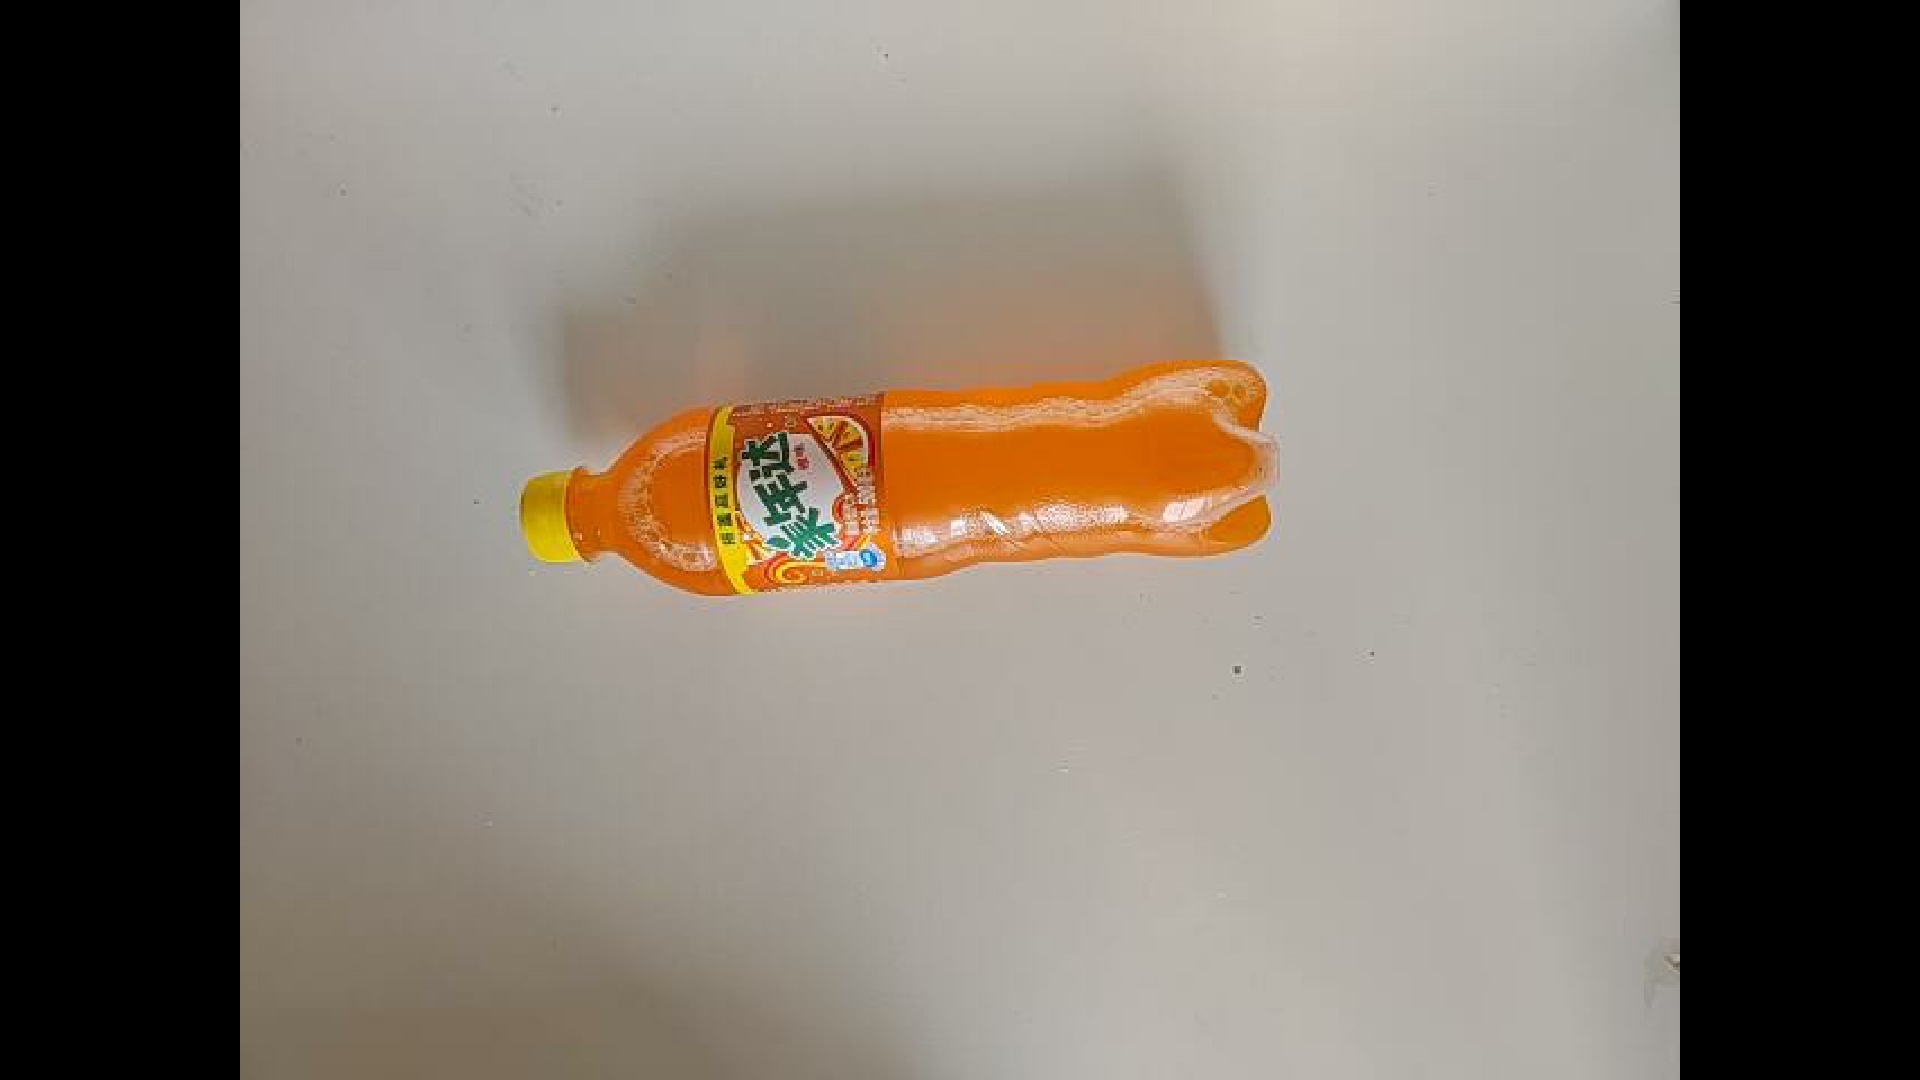fenta: (509, 377, 1303, 616)
